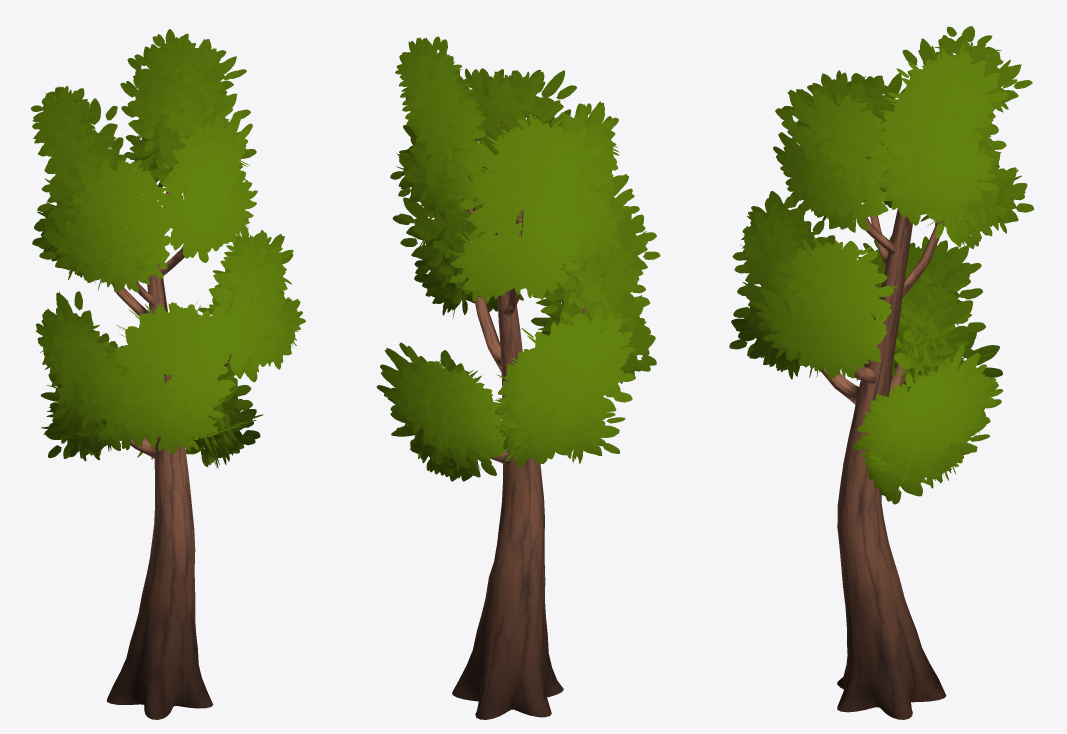
File: CommonTree_3.gltf
3 renders of one model, left to right at view 1: azimuth 30°, elevation 25°; view 2: azimuth 150°, elevation 25°; view 3: azimuth 270°, elevation 25°, orthographic. The views are drawn at different scales.
Visible parts, largest first — view 1: CommonTree_3; view 2: CommonTree_3; view 3: CommonTree_3.
Part boxes in pixels (box(x1,y1,x2,y2)): CommonTree_3: box(30, 29, 305, 719); CommonTree_3: box(376, 36, 660, 719); CommonTree_3: box(729, 26, 1033, 719).
Bounding box in the file's own units: 4.06 × 9.43 × 4.24.
Materials: 2 (2 with a texture image).
